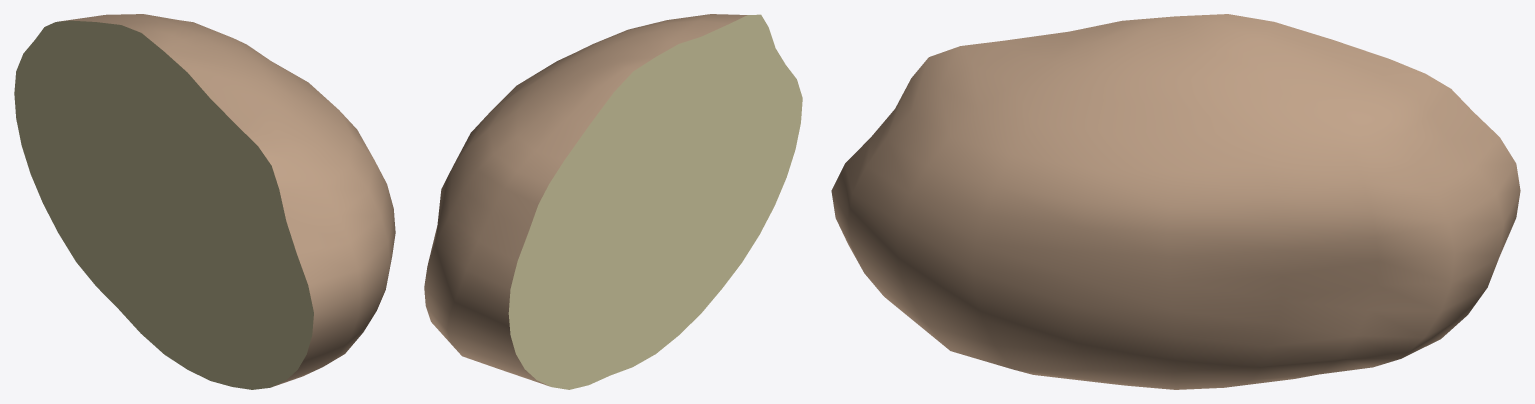
The model's file is potato_right.fbx.
3 views of the same model, side by side, from view 1: azimuth 30°, elevation 25°; view 2: azimuth 150°, elevation 25°; view 3: azimuth 270°, elevation 25° (orthographic). The views are drawn at different scales.
Visible parts, largest first — view 1: pasted__polySurface2; view 2: pasted__polySurface2; view 3: pasted__polySurface2.
Part boxes in pixels (<box>): pasted__polySurface2: <box>14,14,395,389</box>; pasted__polySurface2: <box>424,14,802,389</box>; pasted__polySurface2: <box>831,14,1520,389</box>.
Size of the model in its own units: 1.36 by 2.33 by 4.15.
